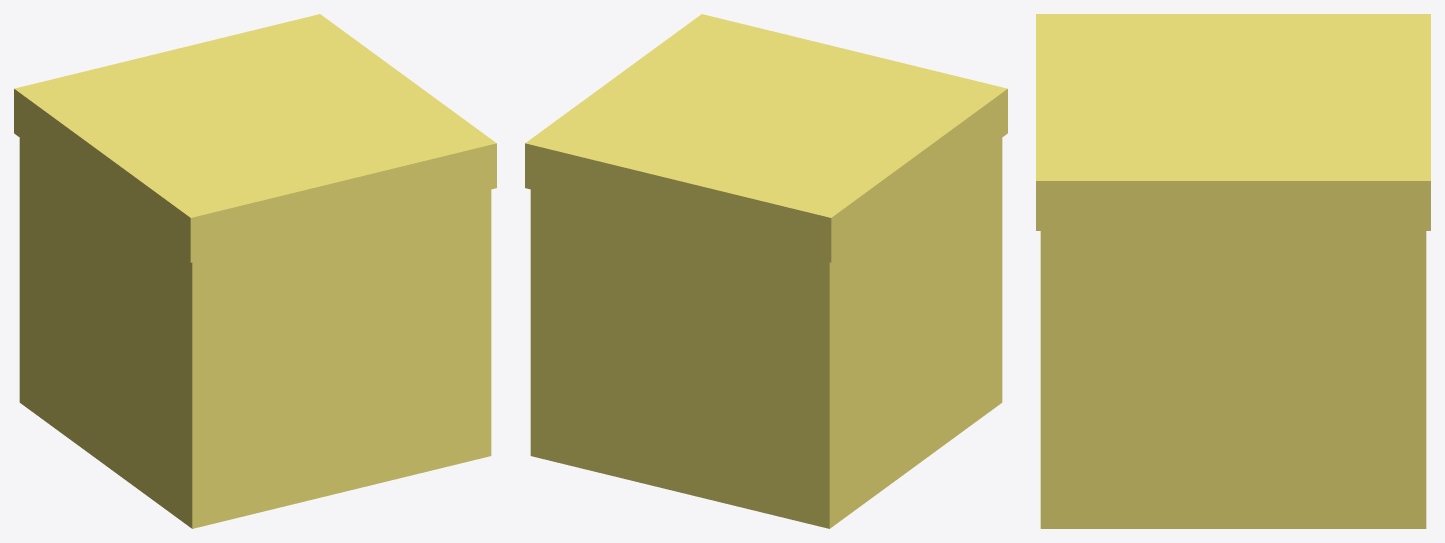
Rendered from prebox08270335yellow.fbx.
3 renders of one model, left to right at view 1: azimuth 30°, elevation 25°; view 2: azimuth 150°, elevation 25°; view 3: azimuth 270°, elevation 25°, orthographic. The views are drawn at different scales.
Parts seen in each view (by area): view 1: Cube; view 2: Cube; view 3: Cube.
Part boxes in pixels (bbox=[...]): Cube: bbox=[14, 14, 496, 528]; Cube: bbox=[525, 14, 1007, 528]; Cube: bbox=[1036, 14, 1430, 528].
Size of the model in its own units: 205 by 200 by 205.
